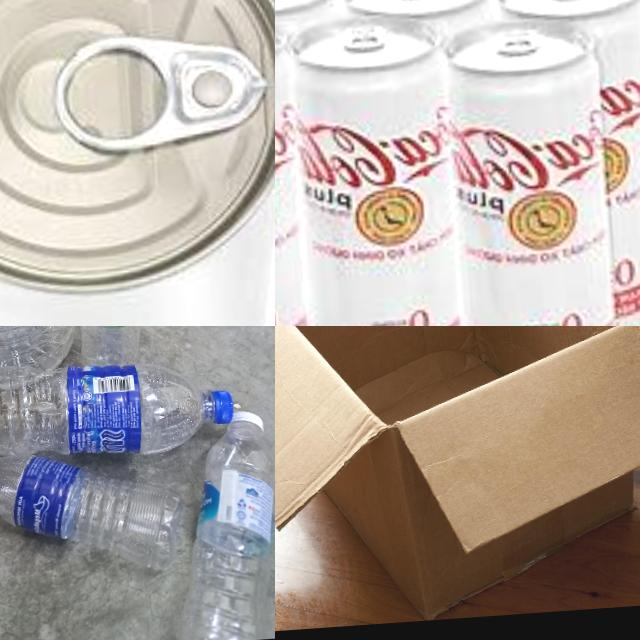aba de lata: (48, 26, 272, 160), (494, 28, 537, 58), (342, 23, 383, 51)
garrafa plástica: (0, 348, 212, 470), (0, 439, 184, 579), (171, 426, 275, 640), (70, 326, 154, 386)
lata: (0, 0, 275, 326), (285, 13, 481, 326), (439, 10, 625, 326), (494, 0, 640, 326), (341, 0, 489, 25), (275, 0, 341, 53)
papelão: (275, 326, 640, 638)
tampa plástica: (208, 386, 238, 424), (232, 410, 266, 430)
